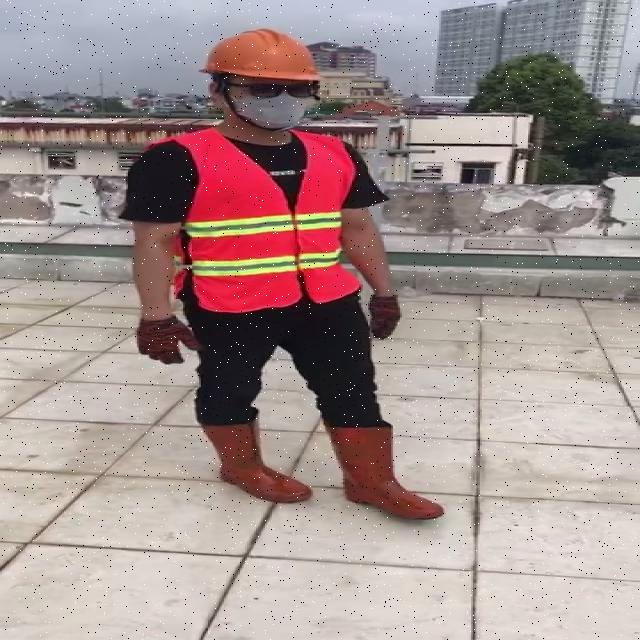Hard_hat: (194, 26, 330, 95)
Person: (111, 19, 446, 530)
Vest: (180, 126, 351, 315)
